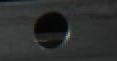holes: (31, 10, 73, 50)
